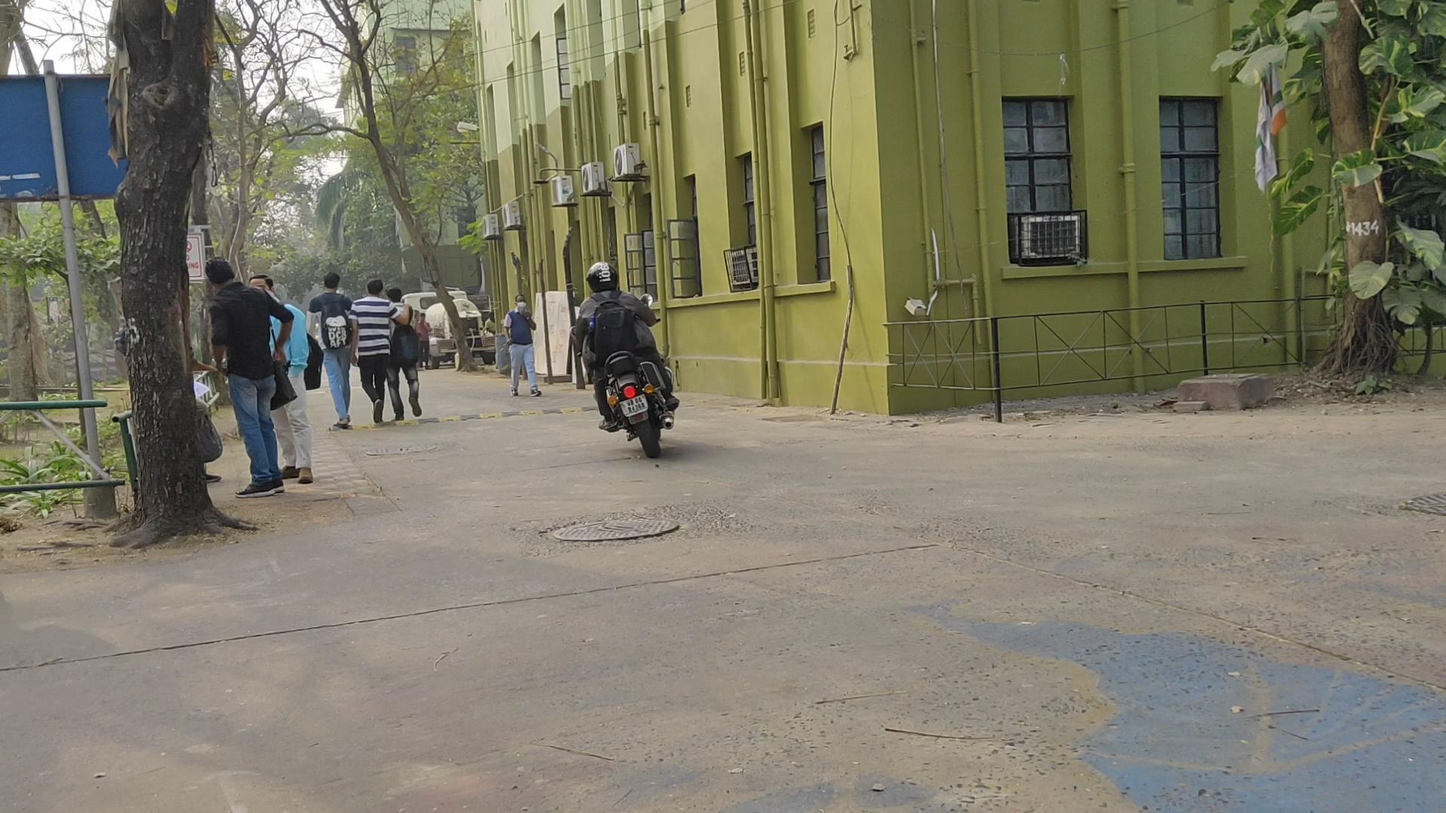bike: (570, 262, 680, 459)
